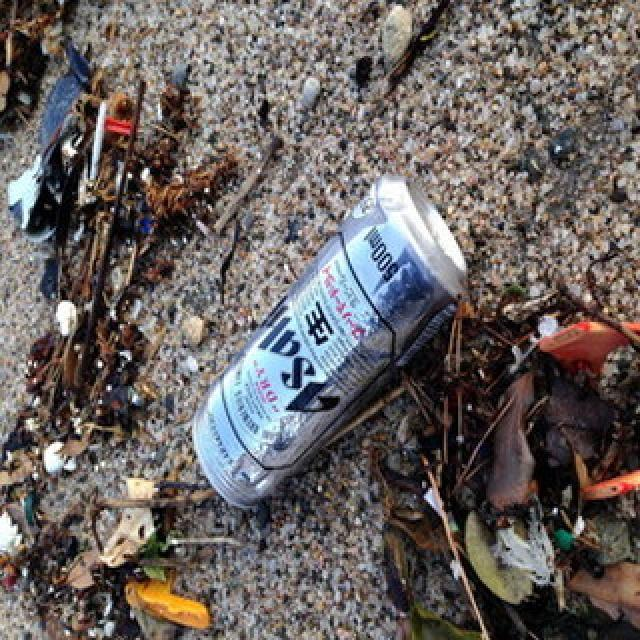can: (183, 174, 470, 508)
